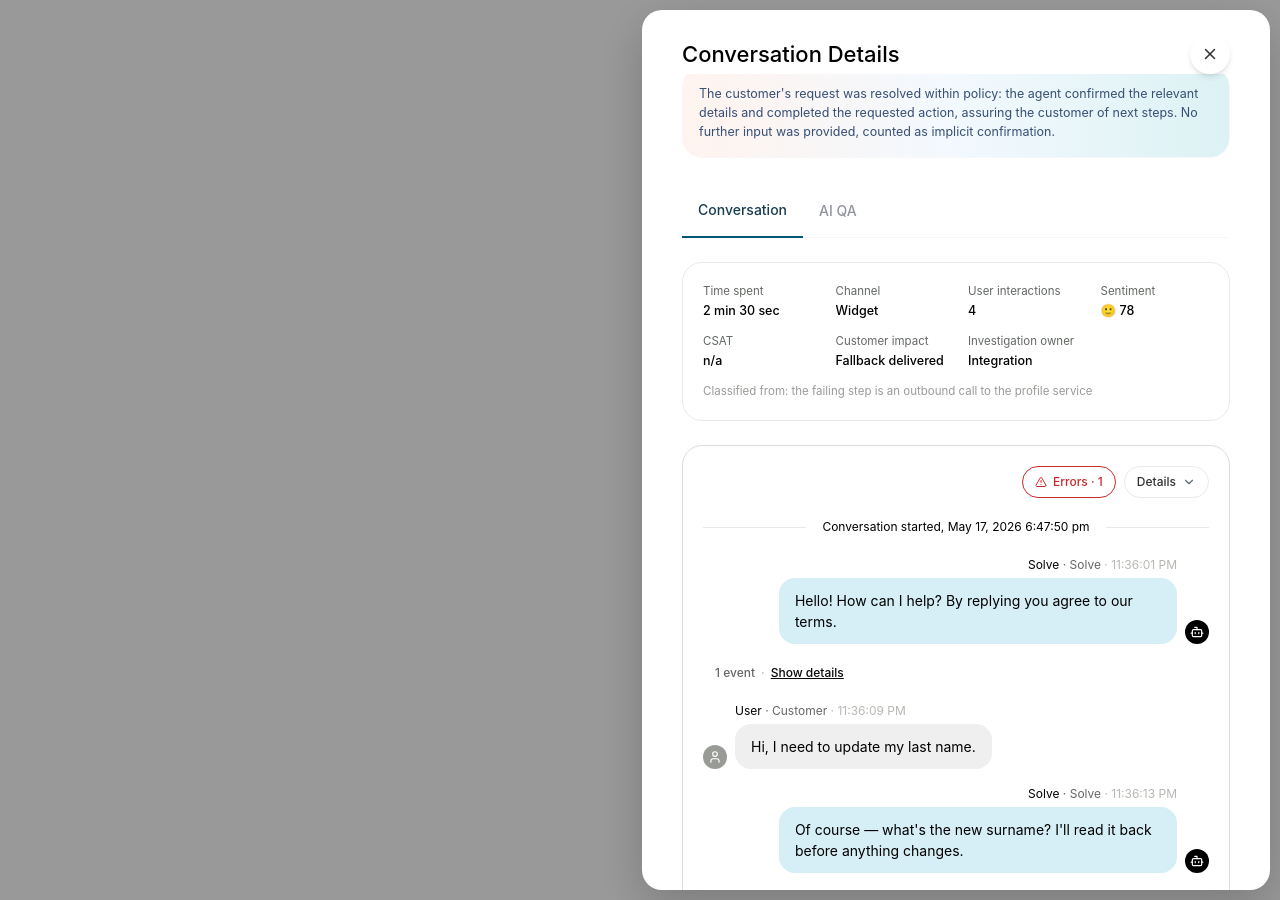
ConversationDetailPanel · audit › scrolls to the failing exchange even when a kind filter was hiding it
(page scrolled)
g-4's error sits in exchange 2, which holds no intent — so Intents hides it.
What coordinates should you click on to do the following:
click the button "Details"
I would click on:
 (1166, 482)
Its box is 1124,466 -> 1209,498.
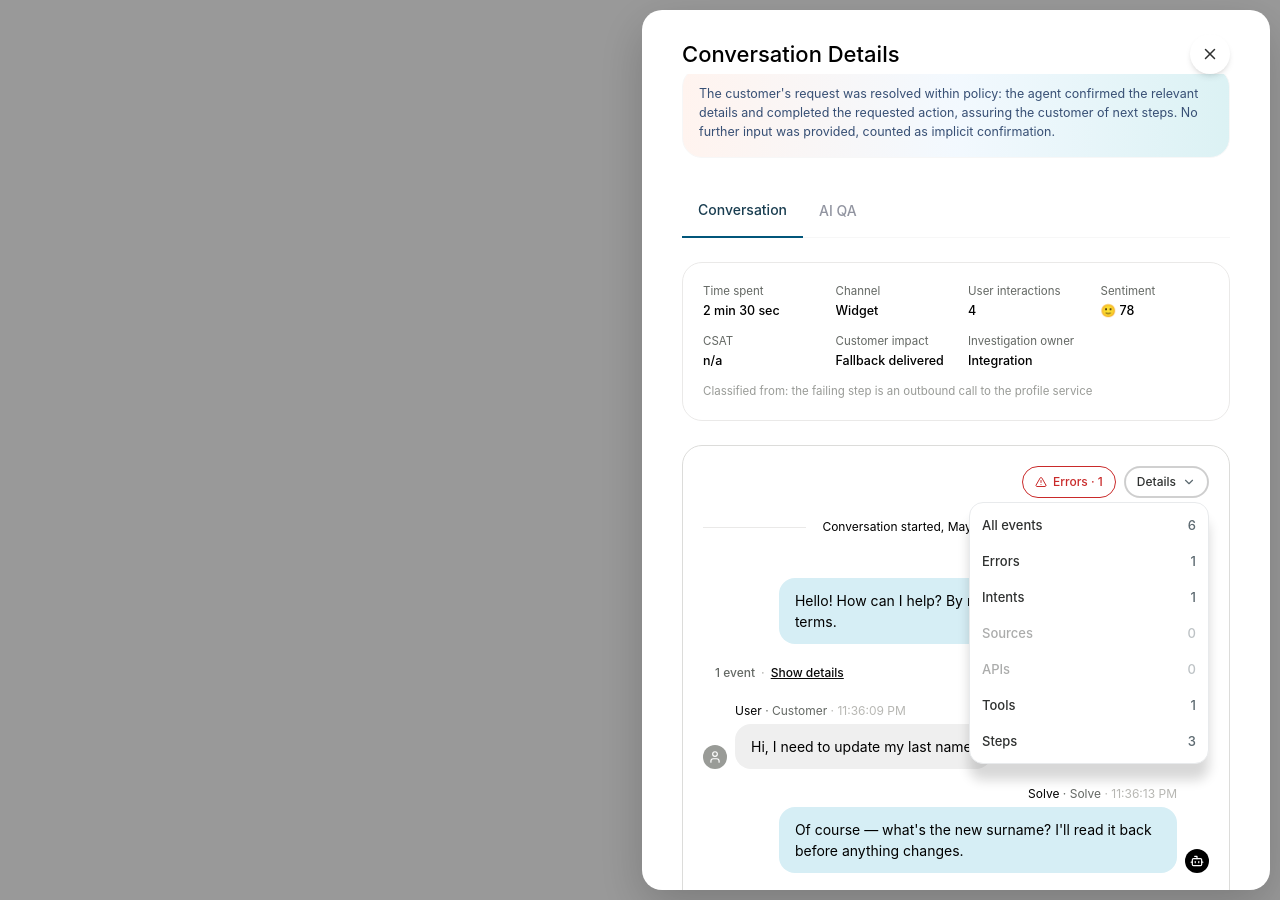
What coordinates should you click on to do the following:
click the menu item "Intents 1"
I would click on:
 (1089, 597)
Its box is 974,579 -> 1204,615.
(page scrolled)
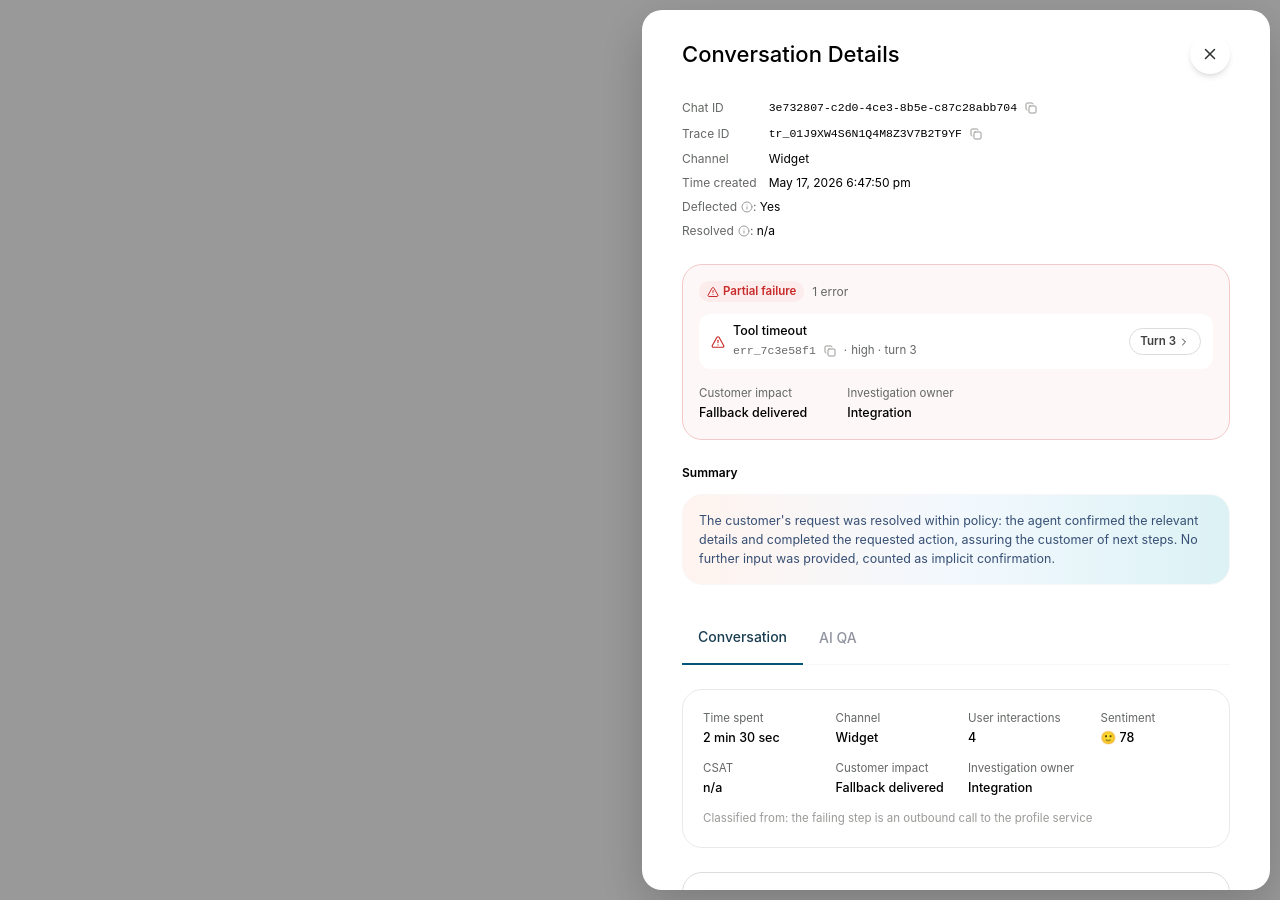
What coordinates should you click on to do the following:
click the button with aria-label "Jump to Tool timeout"
I would click on:
 (1165, 342)
Its box is 1129,328 -> 1201,355.
(page scrolled)
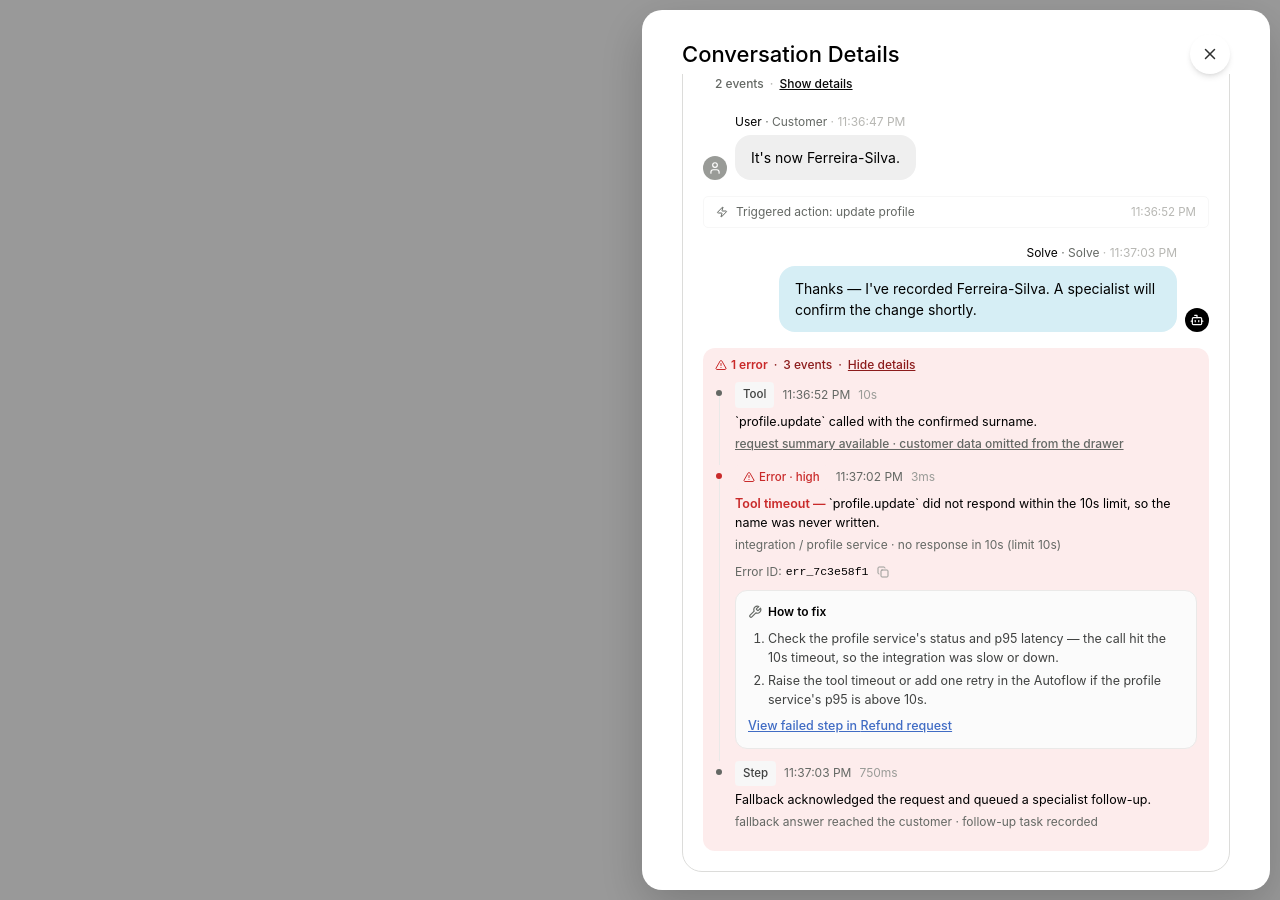
Expected: the element with test id "exchange-2" is shown, 703,113 -> 1209,851
